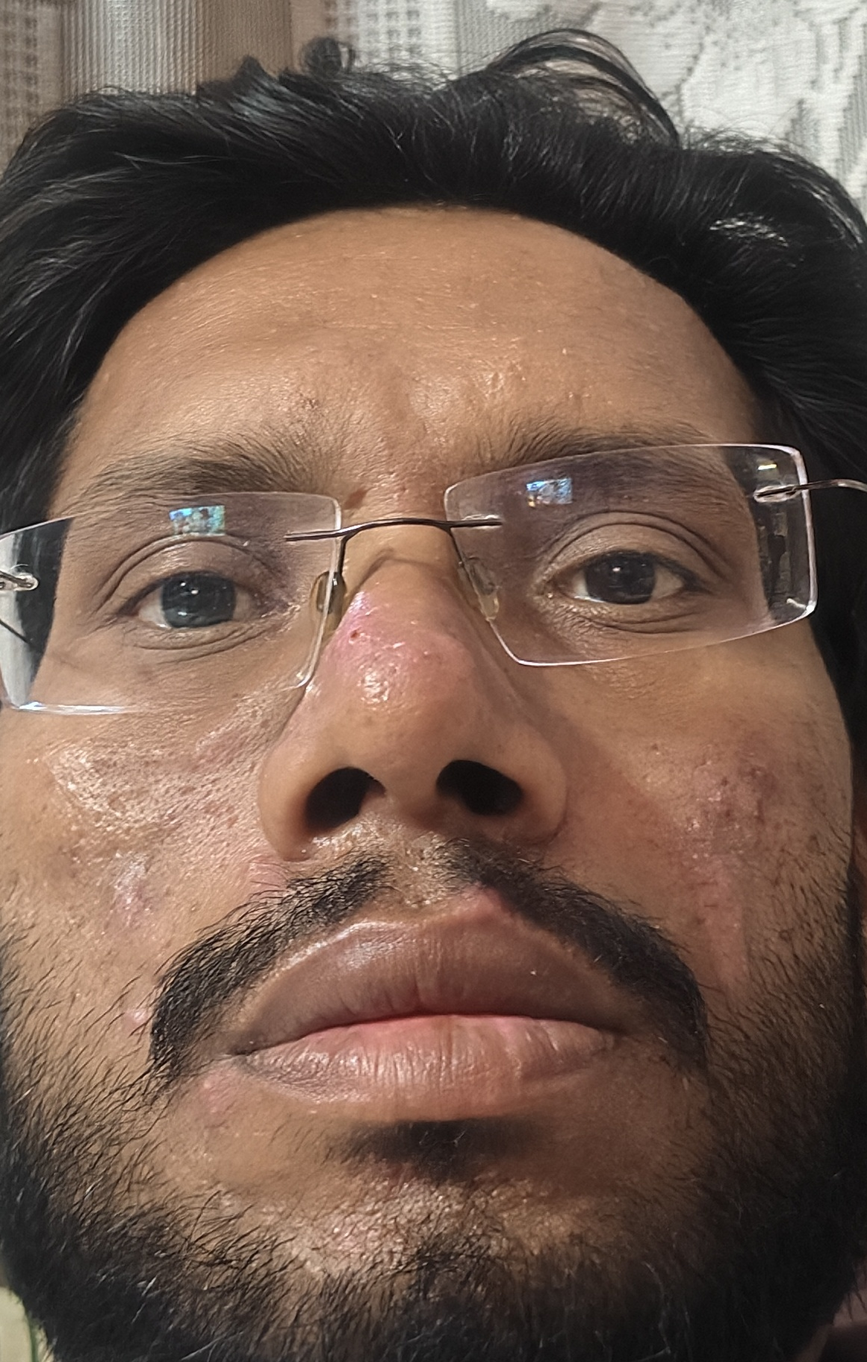papule: (102, 873, 174, 938), (713, 750, 785, 806), (183, 723, 257, 777), (185, 1060, 237, 1134), (109, 997, 165, 1055)
